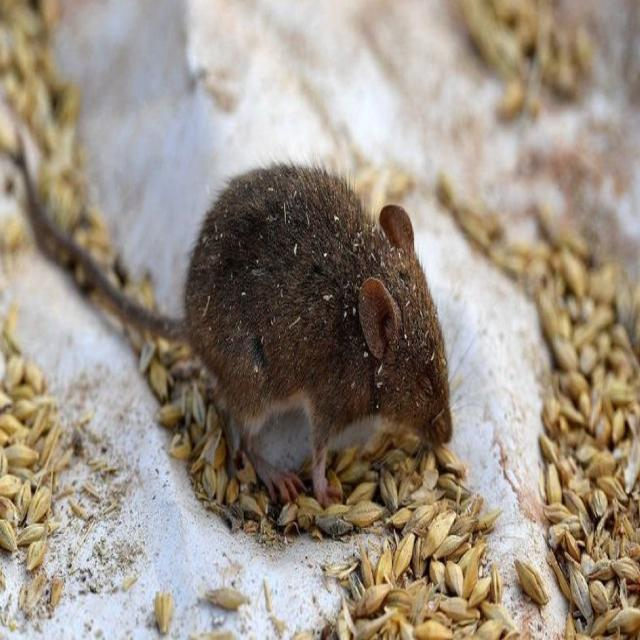Mouse: (176, 160, 450, 480)
